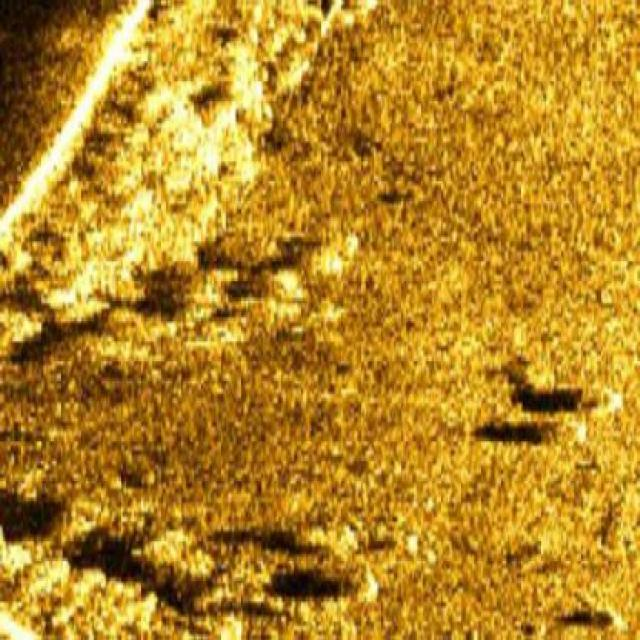bedrock group: (0, 0, 335, 337)
